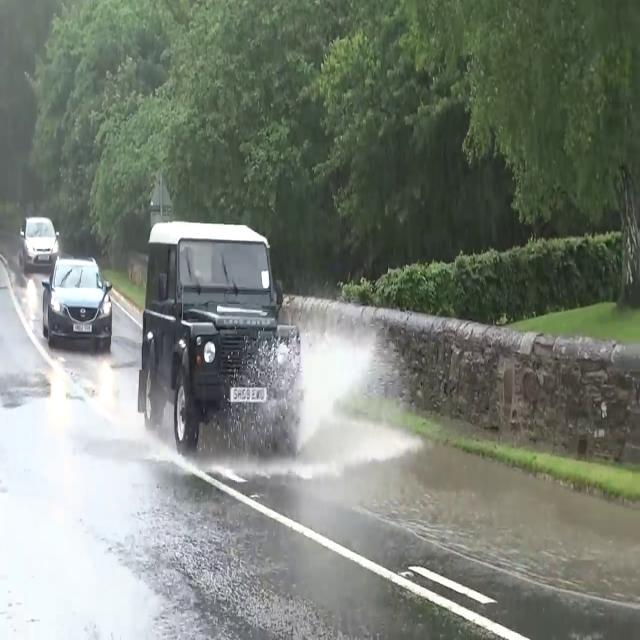license-plate-annotation: (230, 385, 267, 405)
